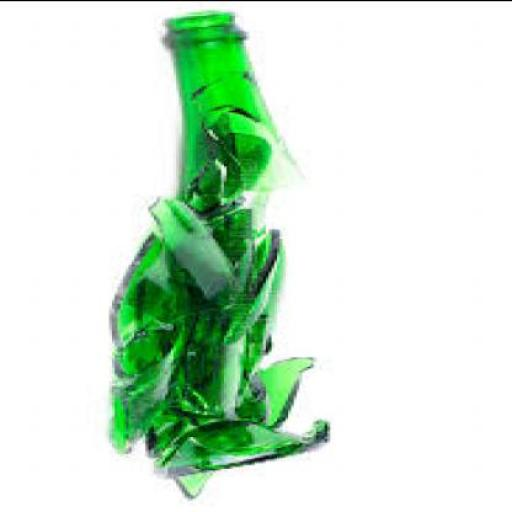glass: (168, 8, 306, 216), (174, 356, 318, 497), (174, 206, 257, 417), (117, 232, 193, 375), (114, 317, 194, 449), (165, 416, 333, 473), (156, 194, 235, 296), (232, 226, 289, 344), (151, 373, 221, 457), (244, 322, 274, 394)
